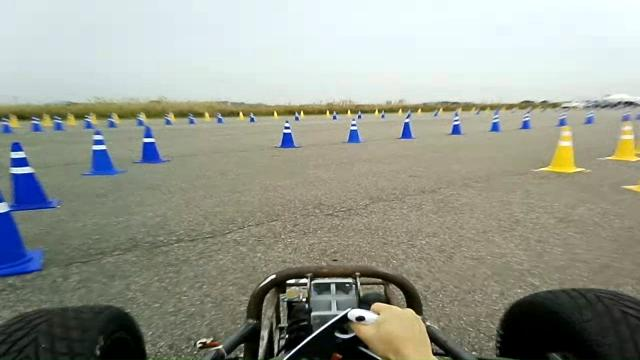blue cone: (0, 191, 44, 276), (6, 141, 59, 211), (80, 129, 126, 176), (132, 125, 170, 164), (274, 120, 301, 148), (396, 110, 416, 139), (343, 118, 365, 143), (448, 111, 464, 135), (487, 108, 501, 132), (519, 111, 532, 129), (30, 117, 44, 132), (1, 118, 14, 133), (106, 112, 118, 128), (555, 112, 568, 126), (52, 116, 65, 130), (582, 110, 594, 124), (83, 114, 94, 129), (135, 112, 146, 126), (164, 112, 174, 125), (187, 113, 196, 124), (216, 112, 224, 123)
yellow cone: (532, 125, 586, 173), (604, 111, 639, 162)
